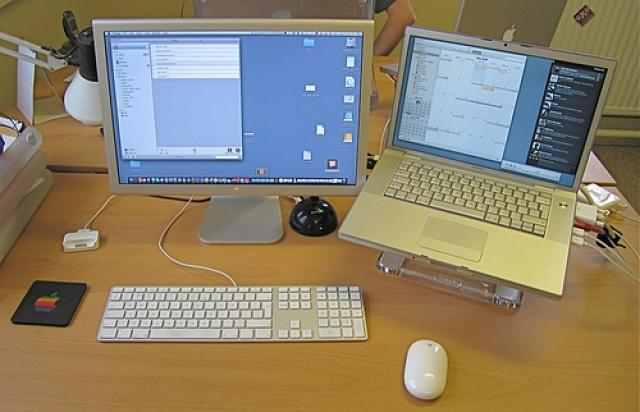AIO PC-Monitor-TV: (91, 18, 375, 196)
